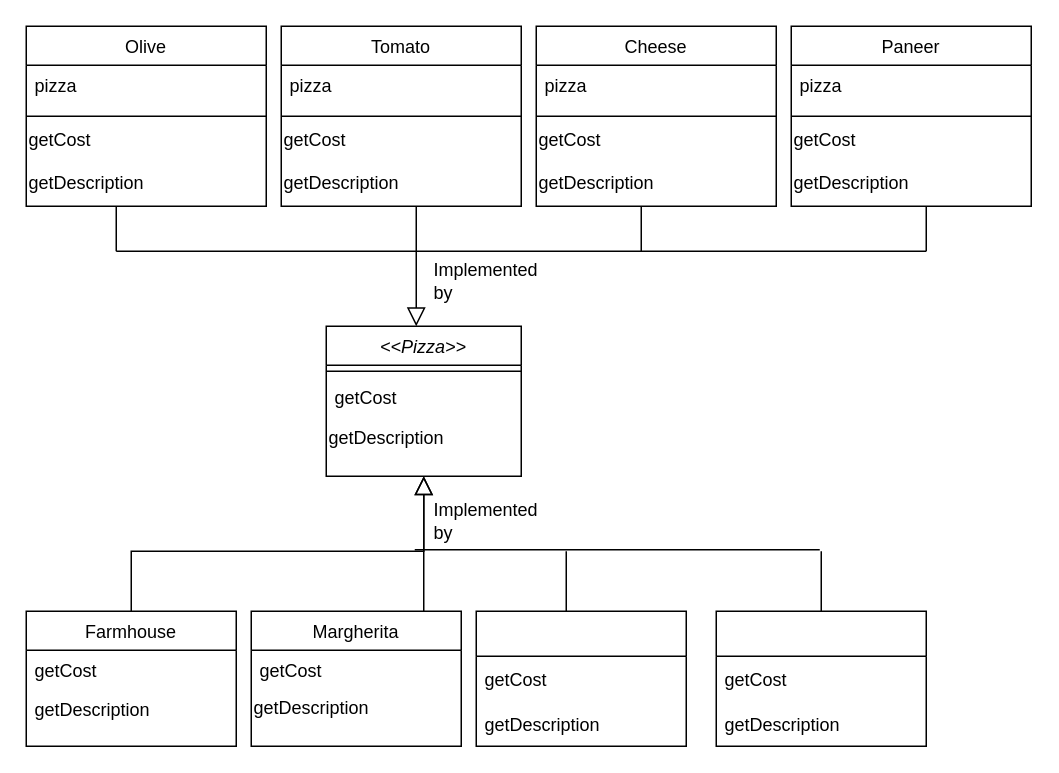
This 1059x773 diagram has some shape labels left out. The shapes that lost their labels are listed below. From the top down, each one's box as (x1, y1, x2, y2) in pixels, then its label:
(475, 610, 686, 746): Pepperoni
(715, 610, 926, 746): BBQChicken
